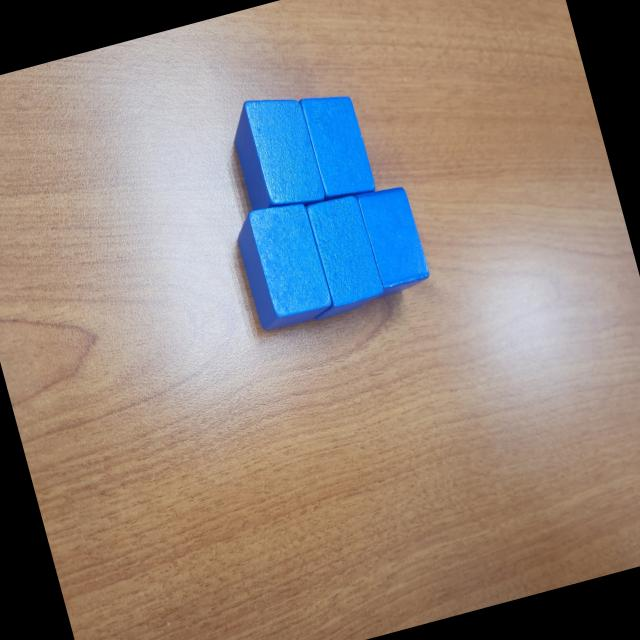blue: (230, 196, 338, 334), (223, 86, 329, 218), (284, 190, 388, 322), (343, 180, 433, 302), (298, 84, 377, 203)
